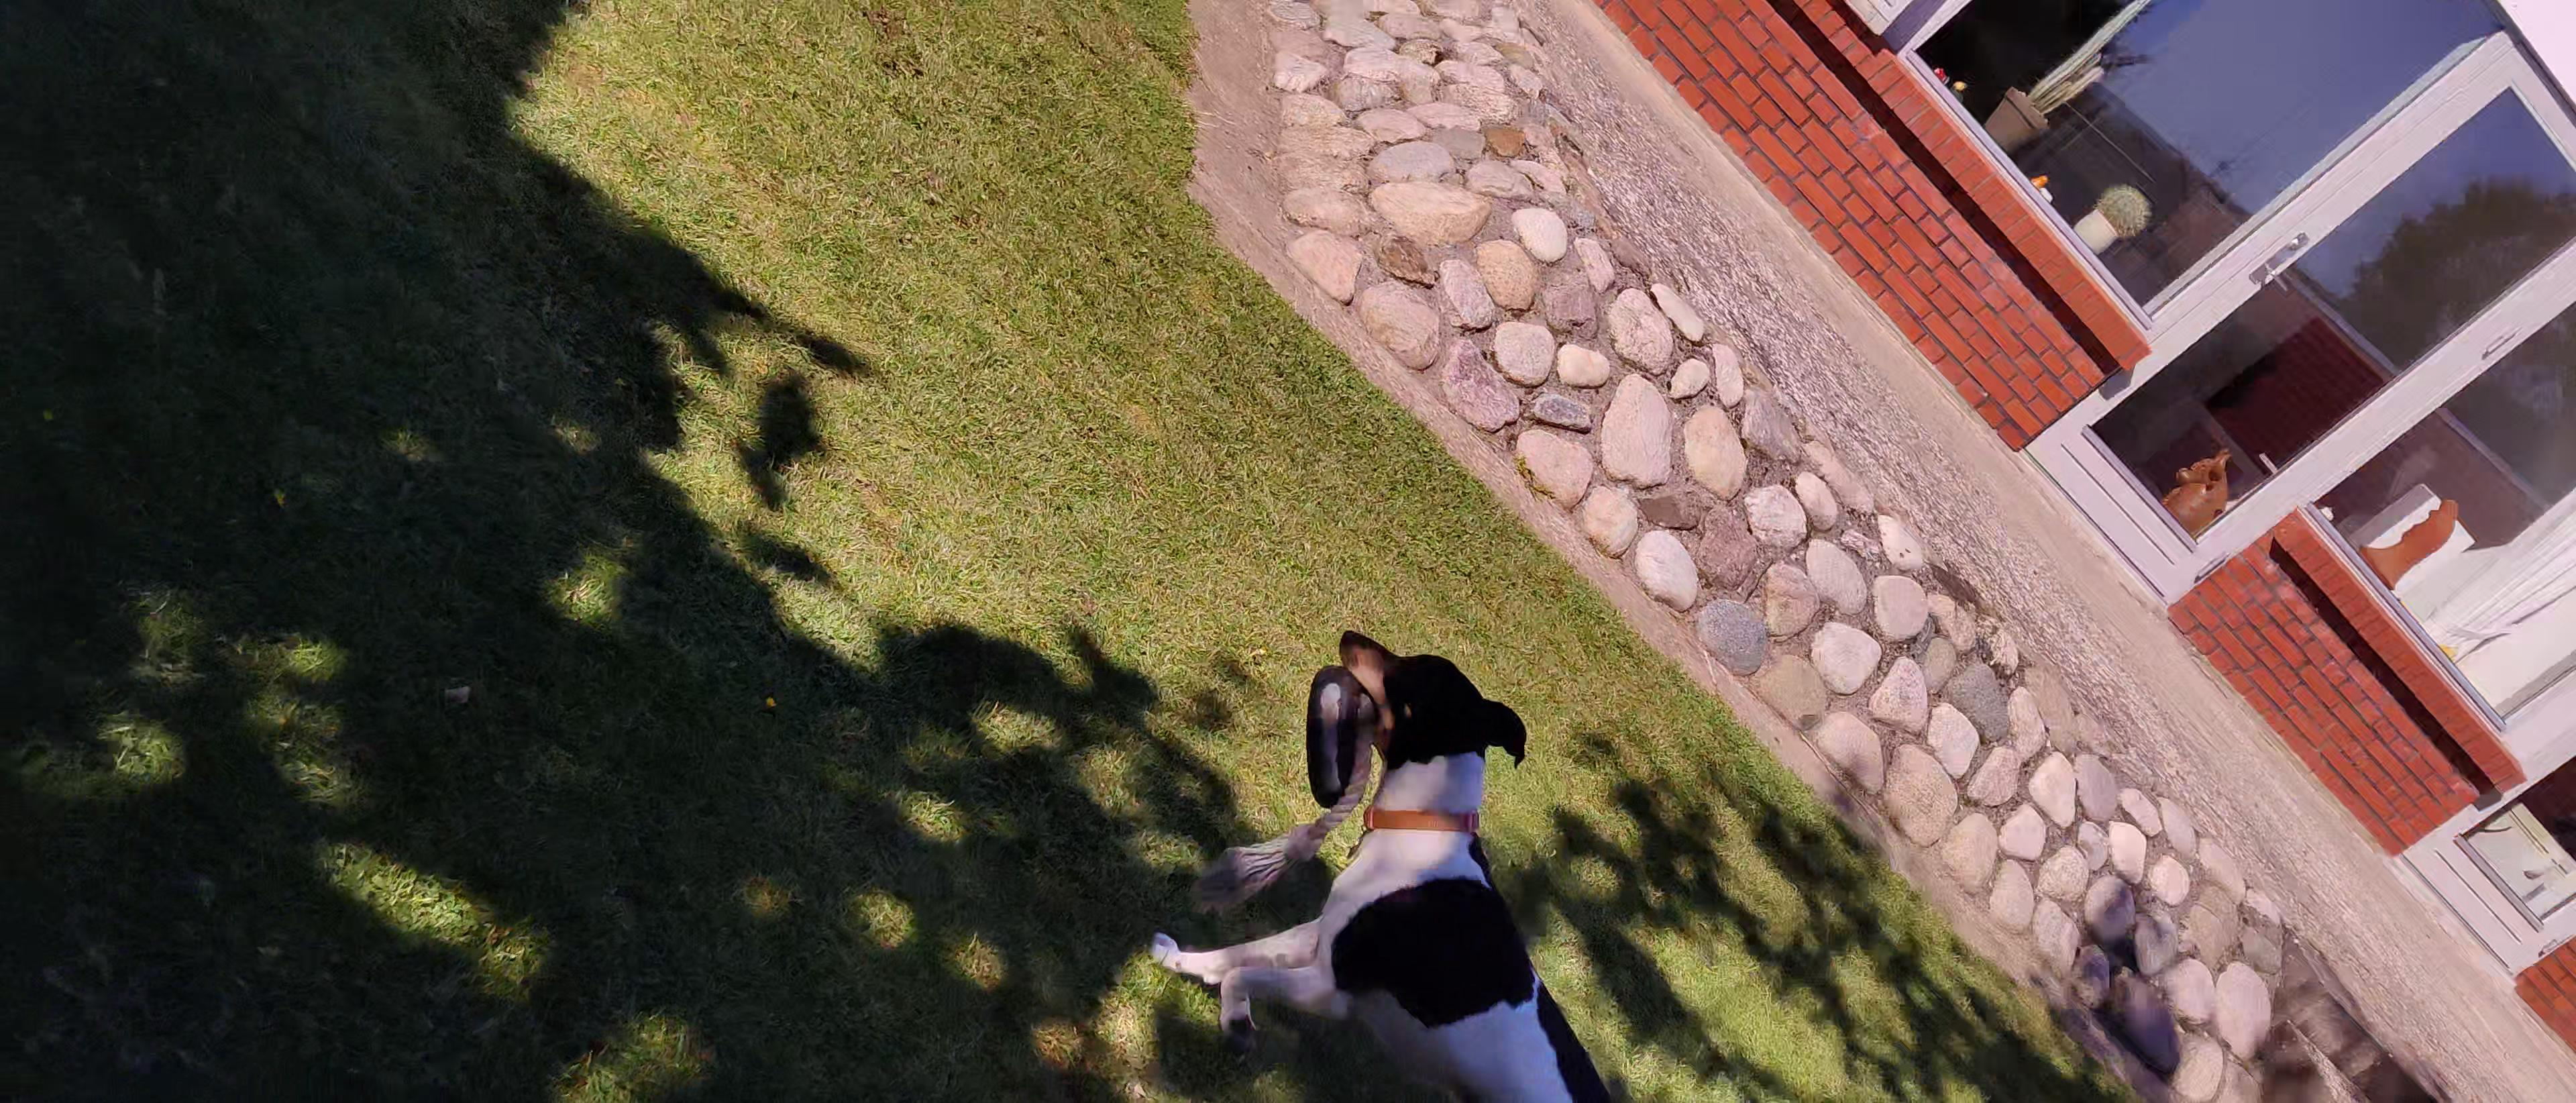Dog: (1132, 616, 1621, 1103)
